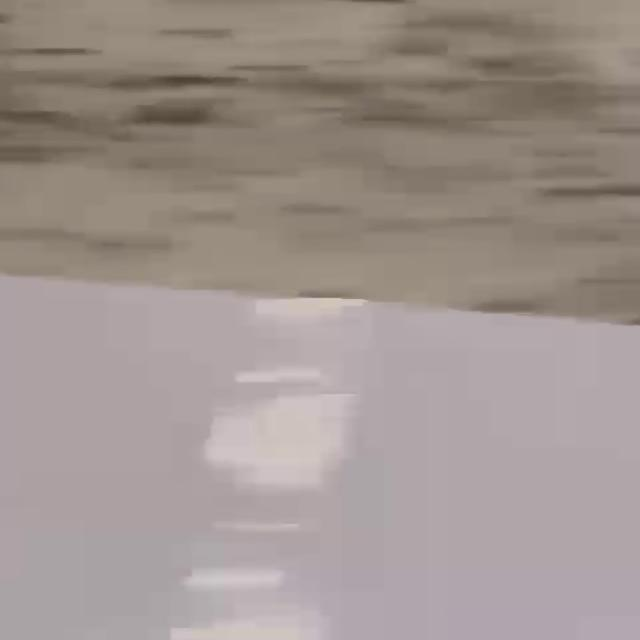road: (1, 278, 640, 640)
